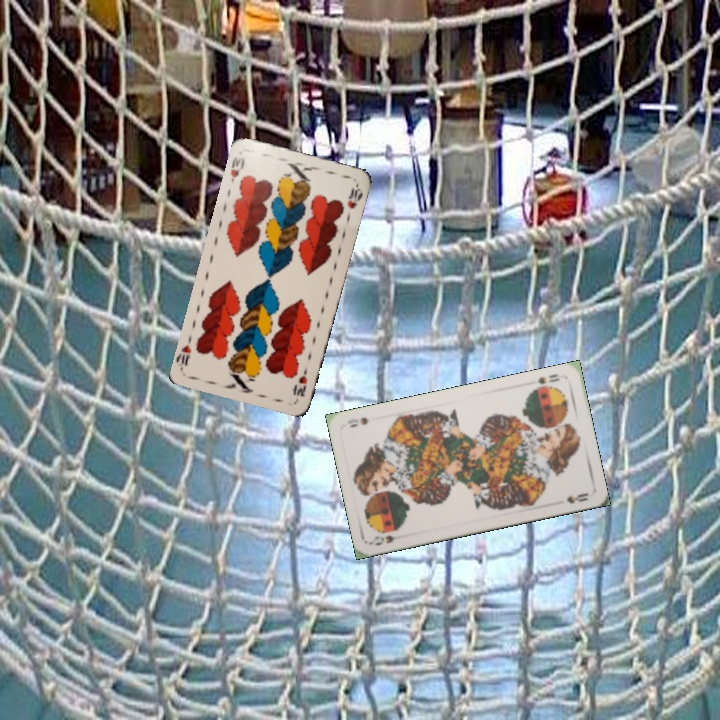H10: (226, 153, 247, 186), (291, 365, 310, 399)
SO: (368, 531, 397, 548), (534, 370, 562, 387)
